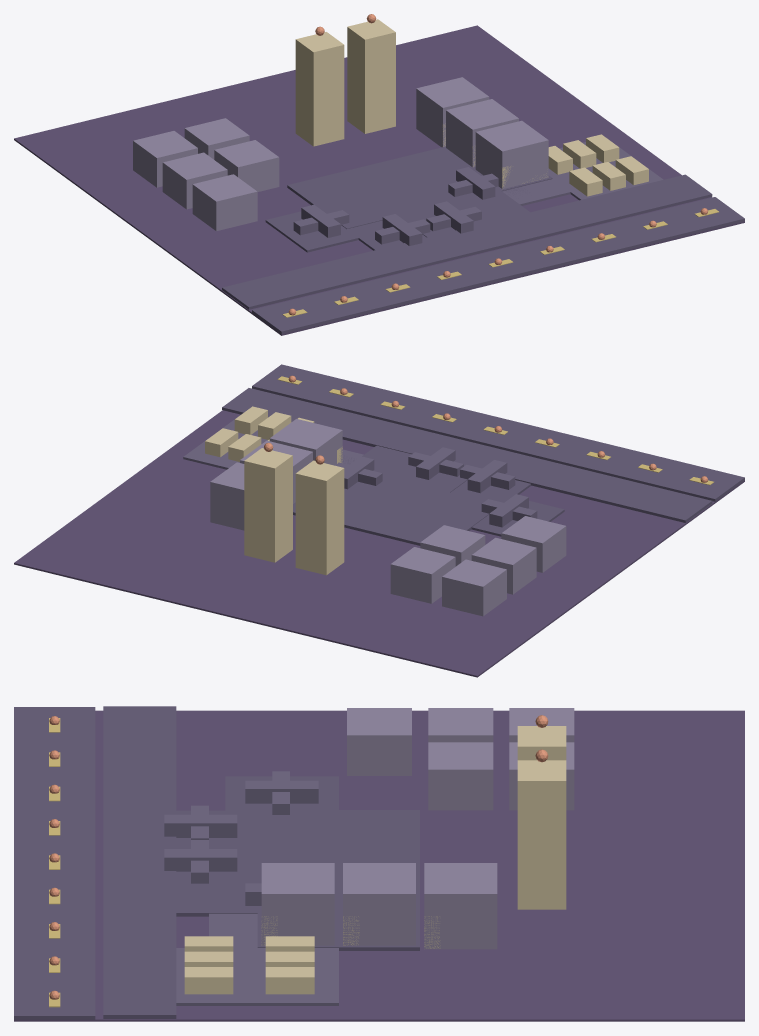
Rendered from stage_22.glb.
The picture shows the model from 3 angles, top to bottom: view 1: azimuth 30°, elevation 25°; view 2: azimuth 150°, elevation 25°; view 3: azimuth 270°, elevation 25°; orthographic projection. The views are drawn at different scales.
Visible parts, largest first — view 1: geometry_0; view 2: geometry_0; view 3: geometry_0.
Part boxes in pixels (x1,y1,x2,y2): geometry_0: [14, 14, 744, 335]; geometry_0: [14, 364, 744, 677]; geometry_0: [14, 706, 744, 1021].
Size of the model in its own units: 9 by 2.06 by 9.
